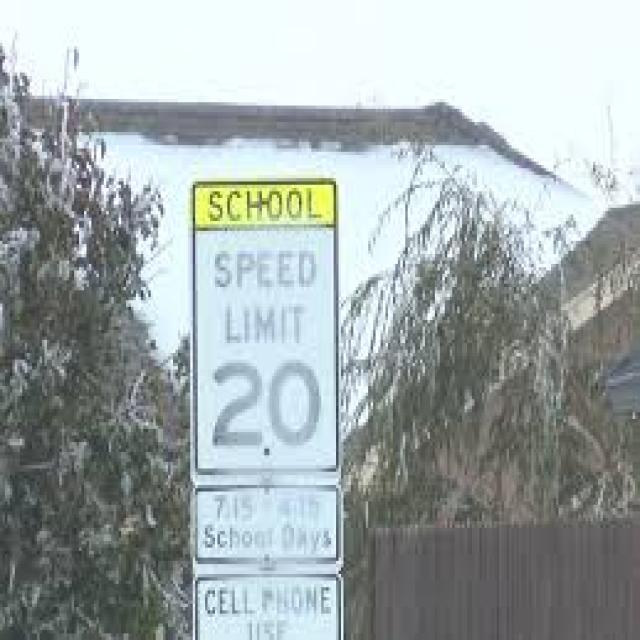speedLimit20: (190, 225, 344, 475)
